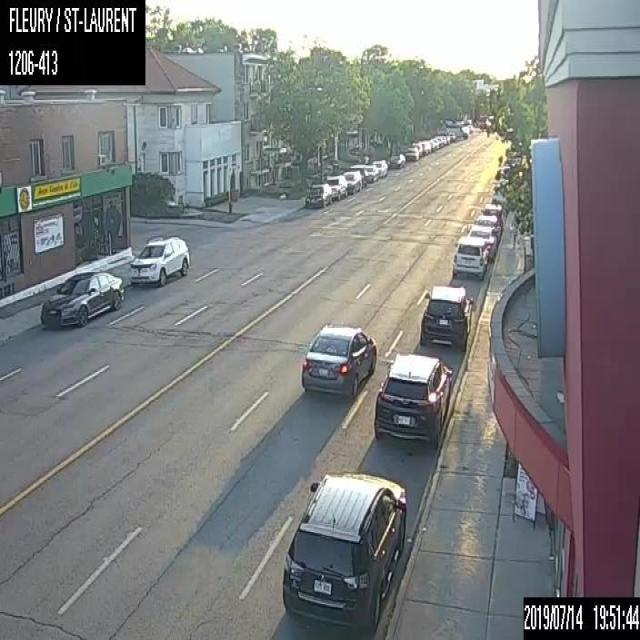vehicle: (280, 468, 406, 631), (374, 349, 452, 447), (299, 322, 377, 398), (39, 267, 124, 328), (419, 281, 473, 348), (128, 232, 190, 287), (451, 236, 488, 277), (466, 224, 497, 259), (304, 181, 331, 208), (326, 175, 348, 200), (343, 170, 361, 193), (372, 159, 387, 177), (364, 164, 378, 182), (388, 153, 404, 168), (404, 146, 418, 160)
